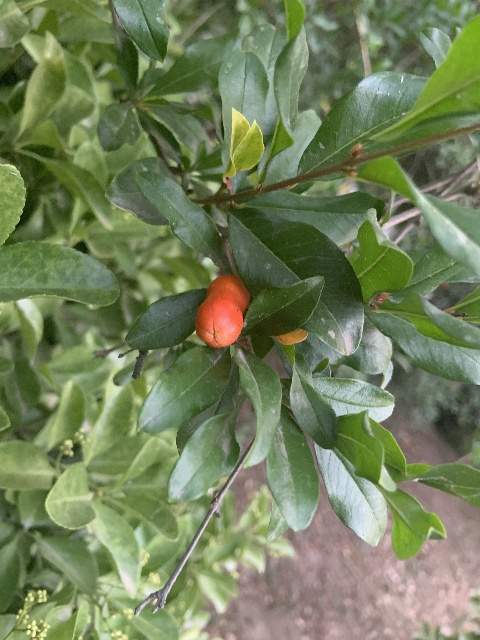bud: (195, 273, 249, 348)
